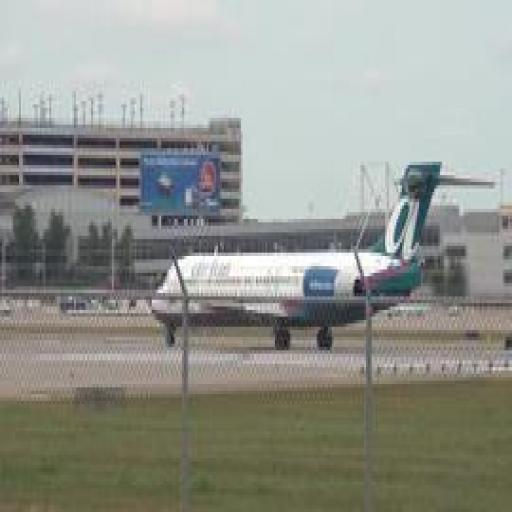aircraft: (152, 160, 498, 348)
